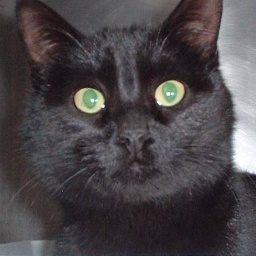cat: (15, 1, 256, 255)
